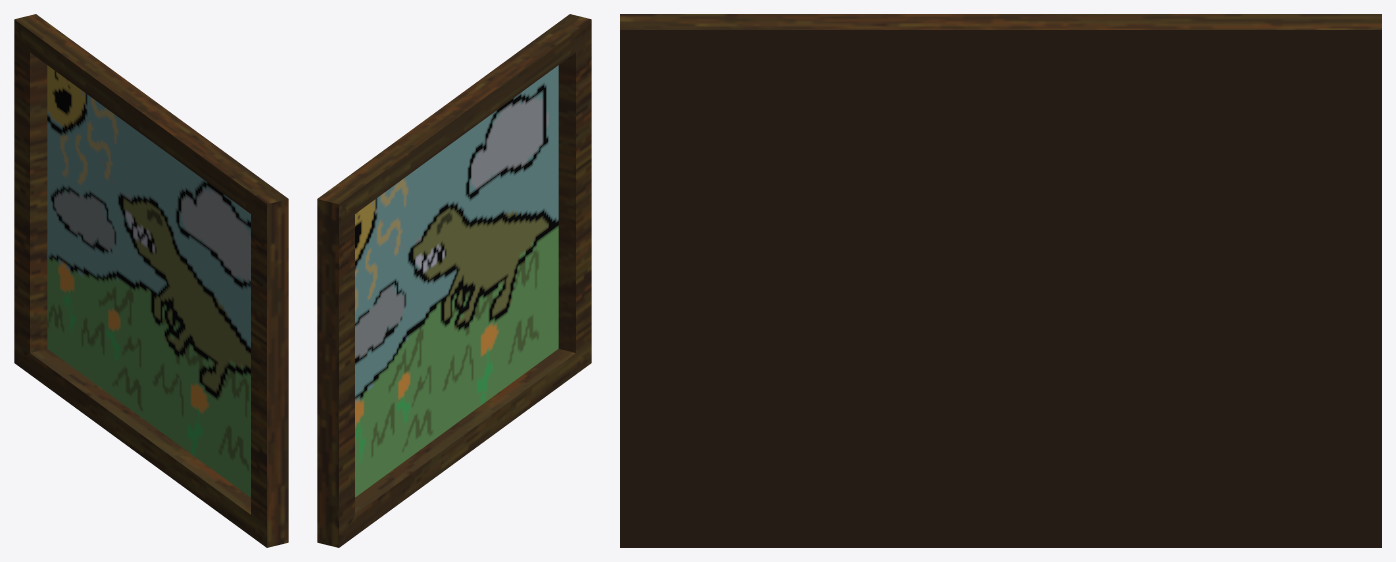
The model's file is Painting1.fbx.
The picture shows the model from 3 angles, left to right: view 1: azimuth 30°, elevation 25°; view 2: azimuth 150°, elevation 25°; view 3: azimuth 270°, elevation 25°; orthographic projection. The views are drawn at different scales.
Parts seen in each view (by area): view 1: Painting; view 2: Painting; view 3: Painting.
Part boxes in pixels (x1,y1,x2,y2): Painting: [14, 14, 288, 547]; Painting: [317, 14, 591, 547]; Painting: [620, 14, 1381, 547].
Bounding box in the file's own units: 2.82 × 42.37 × 56.49.
